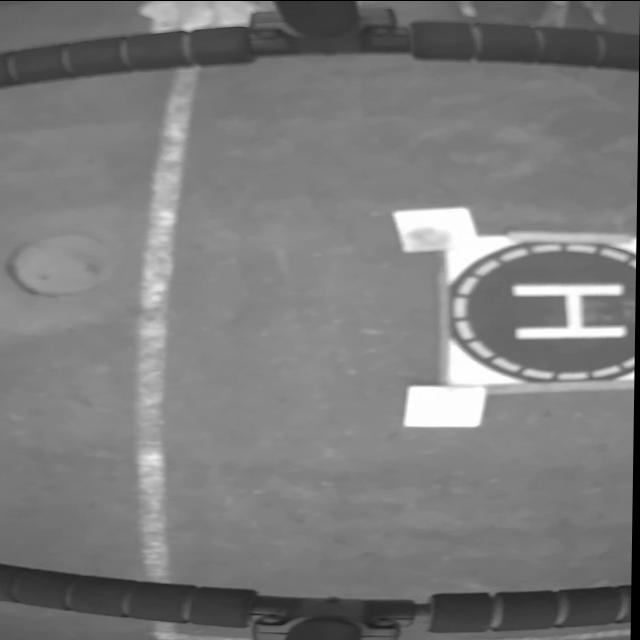Helipad: (511, 282, 627, 337)
